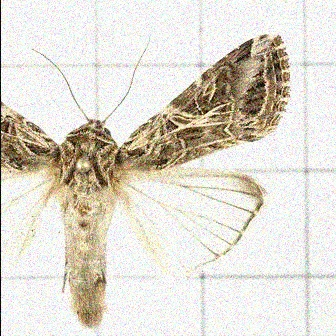Spodoptera litura: (2, 33, 292, 328)
